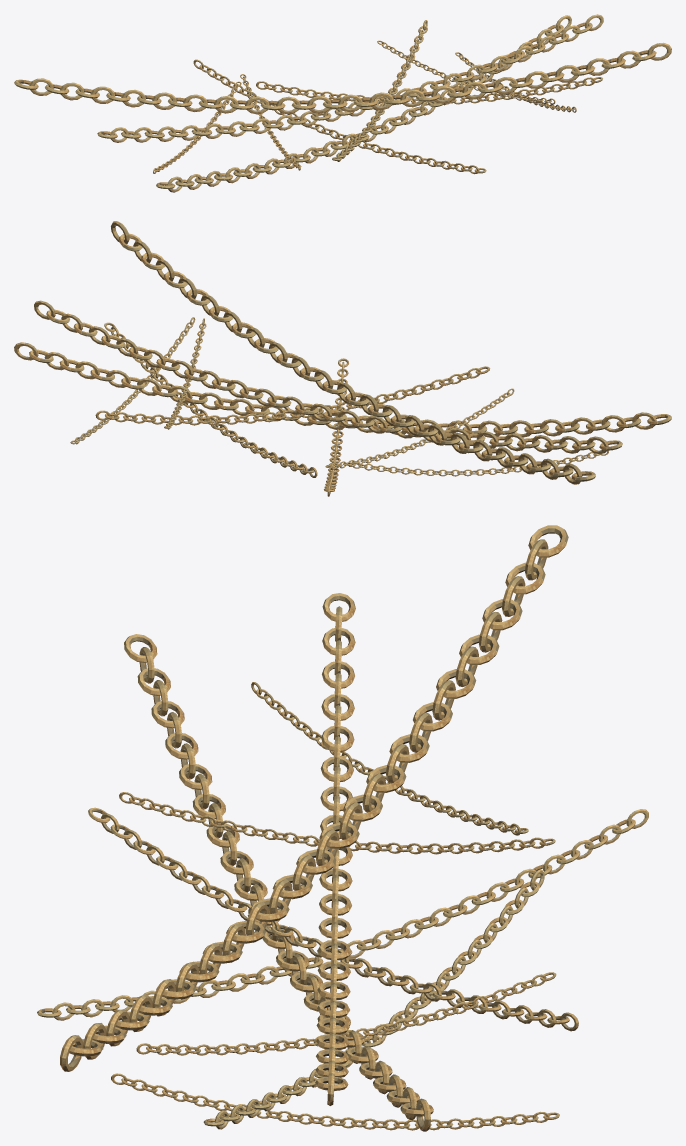
File: m_temple_pyramid_chains_overhang.fbx
3 views of the same model, one above another, from view 1: azimuth 30°, elevation 25°; view 2: azimuth 150°, elevation 25°; view 3: azimuth 270°, elevation 25° (orthographic). The views are drawn at different scales.
Parts seen in each view (by area): view 1: Torus.011; view 2: Torus.011; view 3: Torus.011.
Boxes of the visible parts, <box> form: Torus.011: <box>14,14,671,192</box>; Torus.011: <box>14,221,671,496</box>; Torus.011: <box>37,525,648,1131</box>.
Size of the model in its own units: 35984 by 5836 by 17853.
